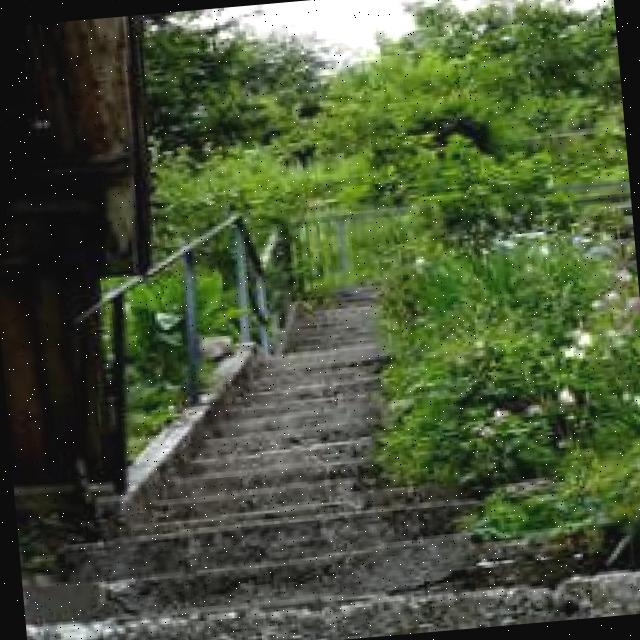stairs: (0, 254, 640, 640)
